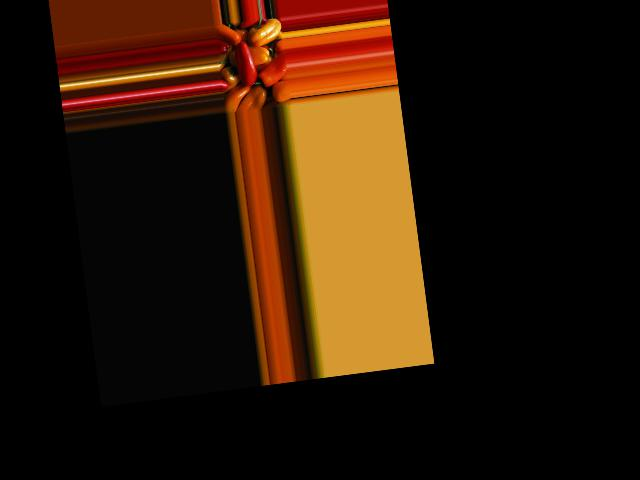bell_pepper: (248, 16, 282, 49)
